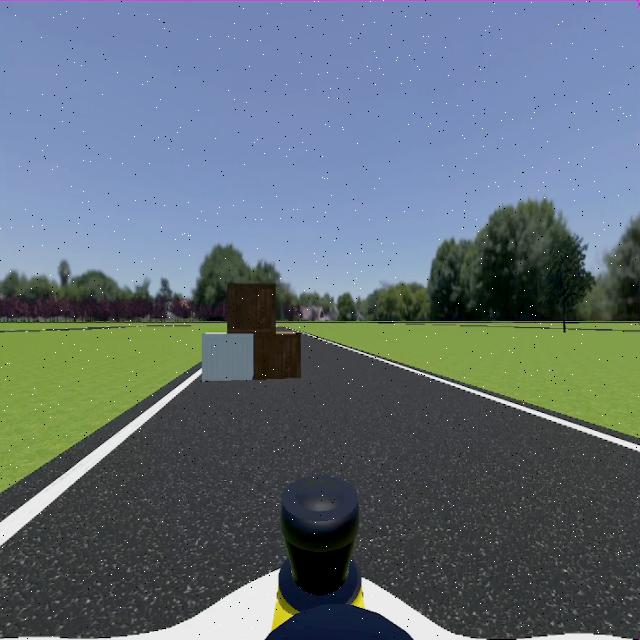road: (0, 338, 640, 637)
solid_line: (309, 334, 640, 452), (0, 371, 200, 547)
